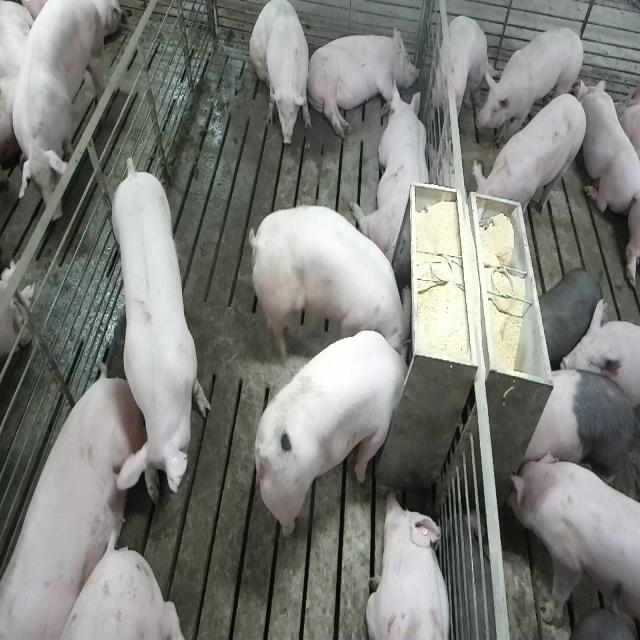Feeding: (257, 328, 418, 539), (253, 202, 419, 362)
Lateral_lying: (306, 22, 419, 142)
Sitting: (250, 0, 312, 148)
Standing: (108, 151, 210, 511), (2, 0, 114, 228), (506, 449, 638, 640), (472, 90, 588, 228), (515, 369, 638, 489), (476, 24, 585, 146), (531, 268, 605, 366), (436, 13, 494, 135)
Sternal_lying: (356, 82, 432, 265), (368, 490, 454, 640), (579, 74, 637, 216)
